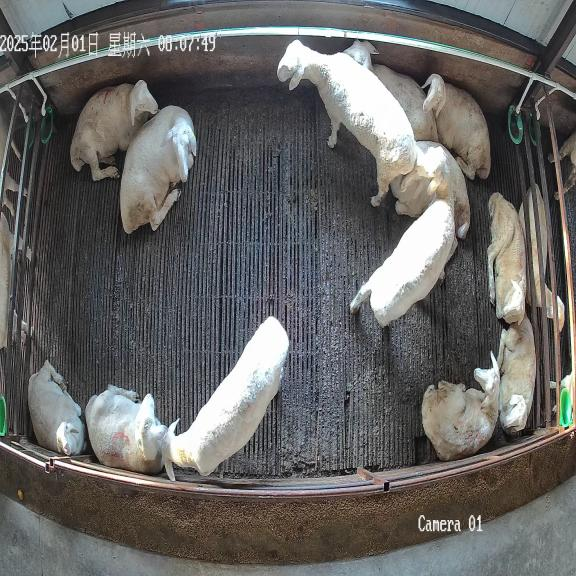lying: (343, 40, 439, 142), (120, 106, 196, 233), (70, 80, 158, 180), (422, 353, 500, 461), (390, 141, 470, 238), (85, 385, 167, 474), (421, 74, 490, 179), (28, 361, 87, 455), (487, 192, 526, 323), (498, 314, 536, 434)
stand: (277, 40, 416, 206), (161, 317, 289, 475), (350, 146, 457, 326)
